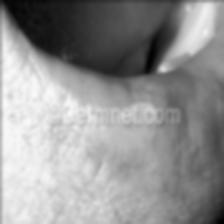Potentially Malignant Skin Tumors: (119, 88, 171, 152)
